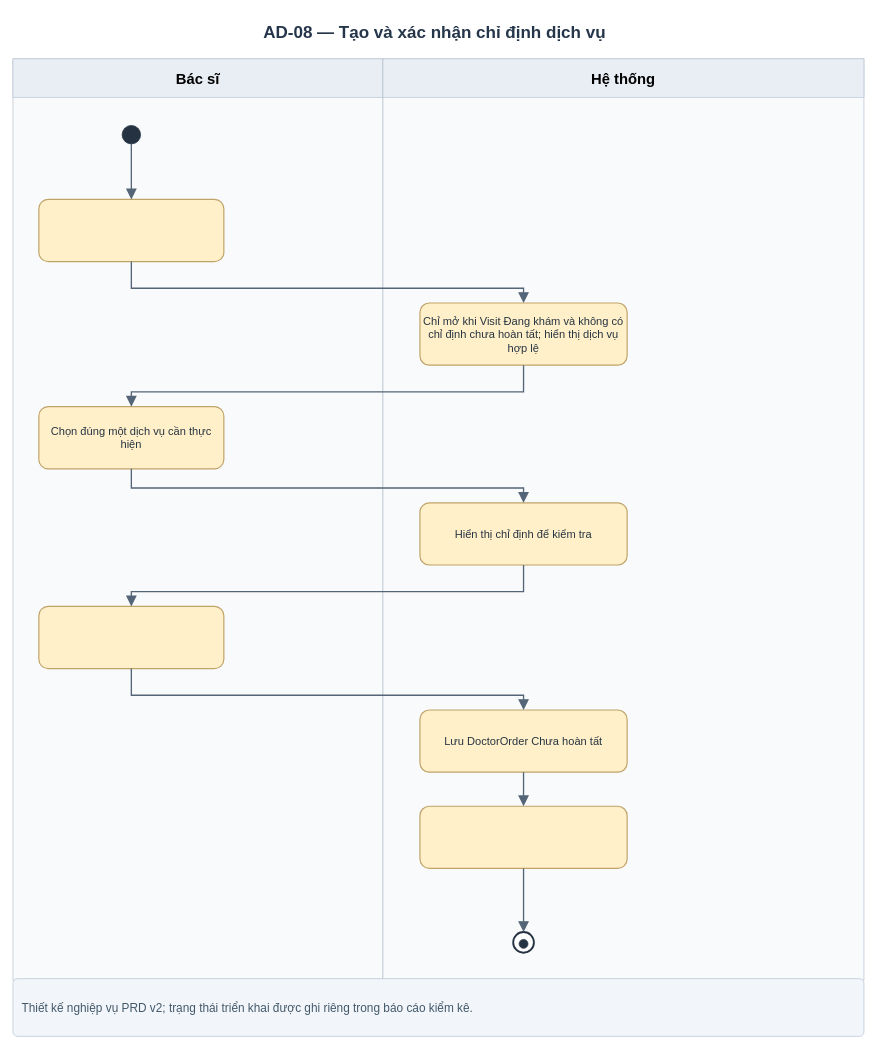
The diagram is 877 pixels wide and 1049 high, and some of its shapes have lost their labels. The centre of each missing label's shape, as x and y in pixels:
Chuyển sang Đang thực hiện dịch vụ; Journey dẫn đến địa điểm dịch vụ: pixel 523 837
Mở Chỉ định dịch vụ của Visit Đang khám: pixel 131 230
Xác nhận chỉ định: pixel 131 637
